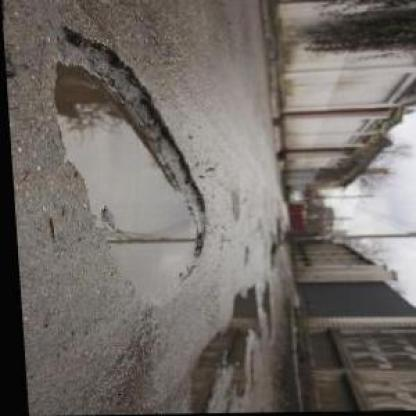pothole: (46, 26, 212, 308)
